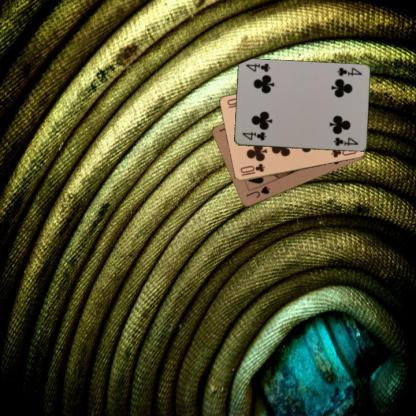10c: (237, 162, 266, 178)
4c: (334, 66, 363, 78), (239, 130, 266, 142)
Js: (244, 184, 271, 199)
